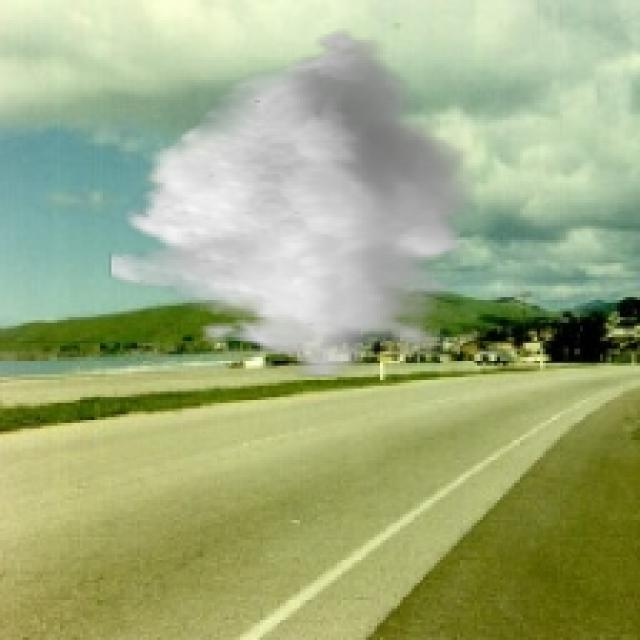smoke: (109, 23, 477, 377)
